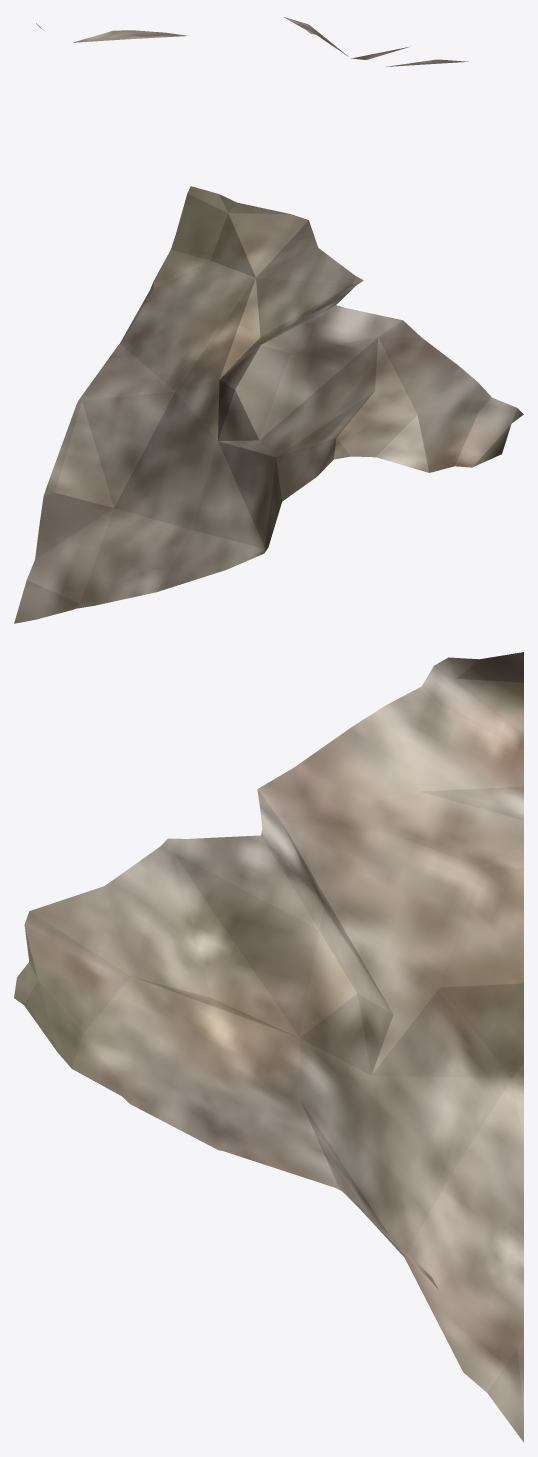
The picture shows the model from 3 angles, top to bottom: view 1: azimuth 30°, elevation 25°; view 2: azimuth 150°, elevation 25°; view 3: azimuth 270°, elevation 25°; orthographic projection. The views are drawn at different scales.
Size of the model in its own units: 0.8282 by 0.4965 by 0.5159.
Materials: 1 (1 with a texture image).
